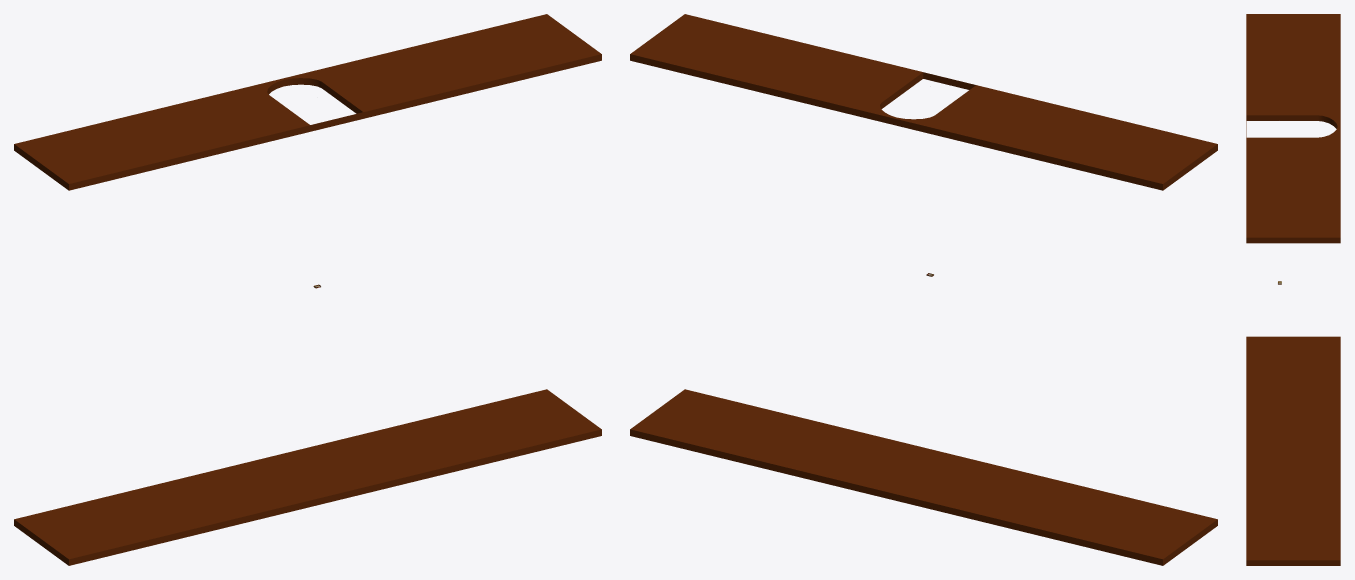
The model's file is lilbrary.glb.
The picture shows the model from 3 angles, left to right: view 1: azimuth 30°, elevation 25°; view 2: azimuth 150°, elevation 25°; view 3: azimuth 270°, elevation 25°; orthographic projection. The views are drawn at different scales.
Visible parts, largest first — view 1: polySurface13442, polySurface13152, polySurface13445, polySurface13443; view 2: polySurface13442, polySurface13445, polySurface13152, polySurface13443; view 3: polySurface13442, polySurface13152, polySurface13445, polySurface13443.
Part boxes in pixels (left/top/right/bottom): polySurface13442: left=14, top=14, right=601, bottom=190; polySurface13152: left=14, top=389, right=601, bottom=564; polySurface13445: left=14, top=390, right=595, bottom=565; polySurface13443: left=271, top=14, right=600, bottom=111; polySurface13442: left=630, top=14, right=1217, bottom=190; polySurface13445: left=630, top=389, right=1217, bottom=565; polySurface13152: left=630, top=389, right=1217, bottom=564; polySurface13443: left=631, top=14, right=975, bottom=113; polySurface13442: left=1246, top=14, right=1340, bottom=243; polySurface13152: left=1246, top=336, right=1340, bottom=565; polySurface13445: left=1246, top=337, right=1340, bottom=565; polySurface13443: left=1246, top=121, right=1340, bottom=236.
Size of the model in its own units: 1685 by 1174 by 300.
Materials: 21 (3 with a texture image).
